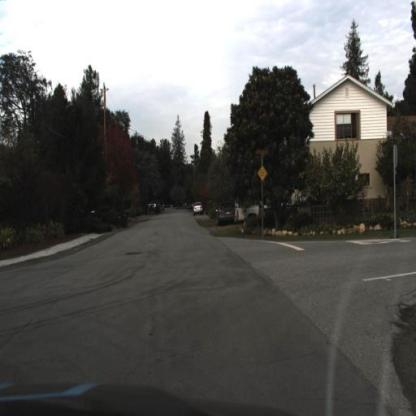car: (235, 195, 267, 228), (216, 199, 236, 231), (216, 199, 237, 225), (194, 200, 205, 217), (194, 201, 205, 216)
